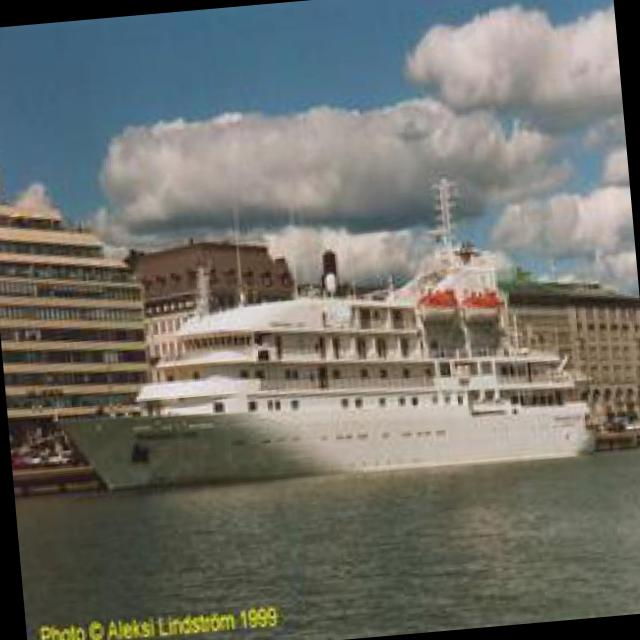boat: (72, 269, 612, 512)
